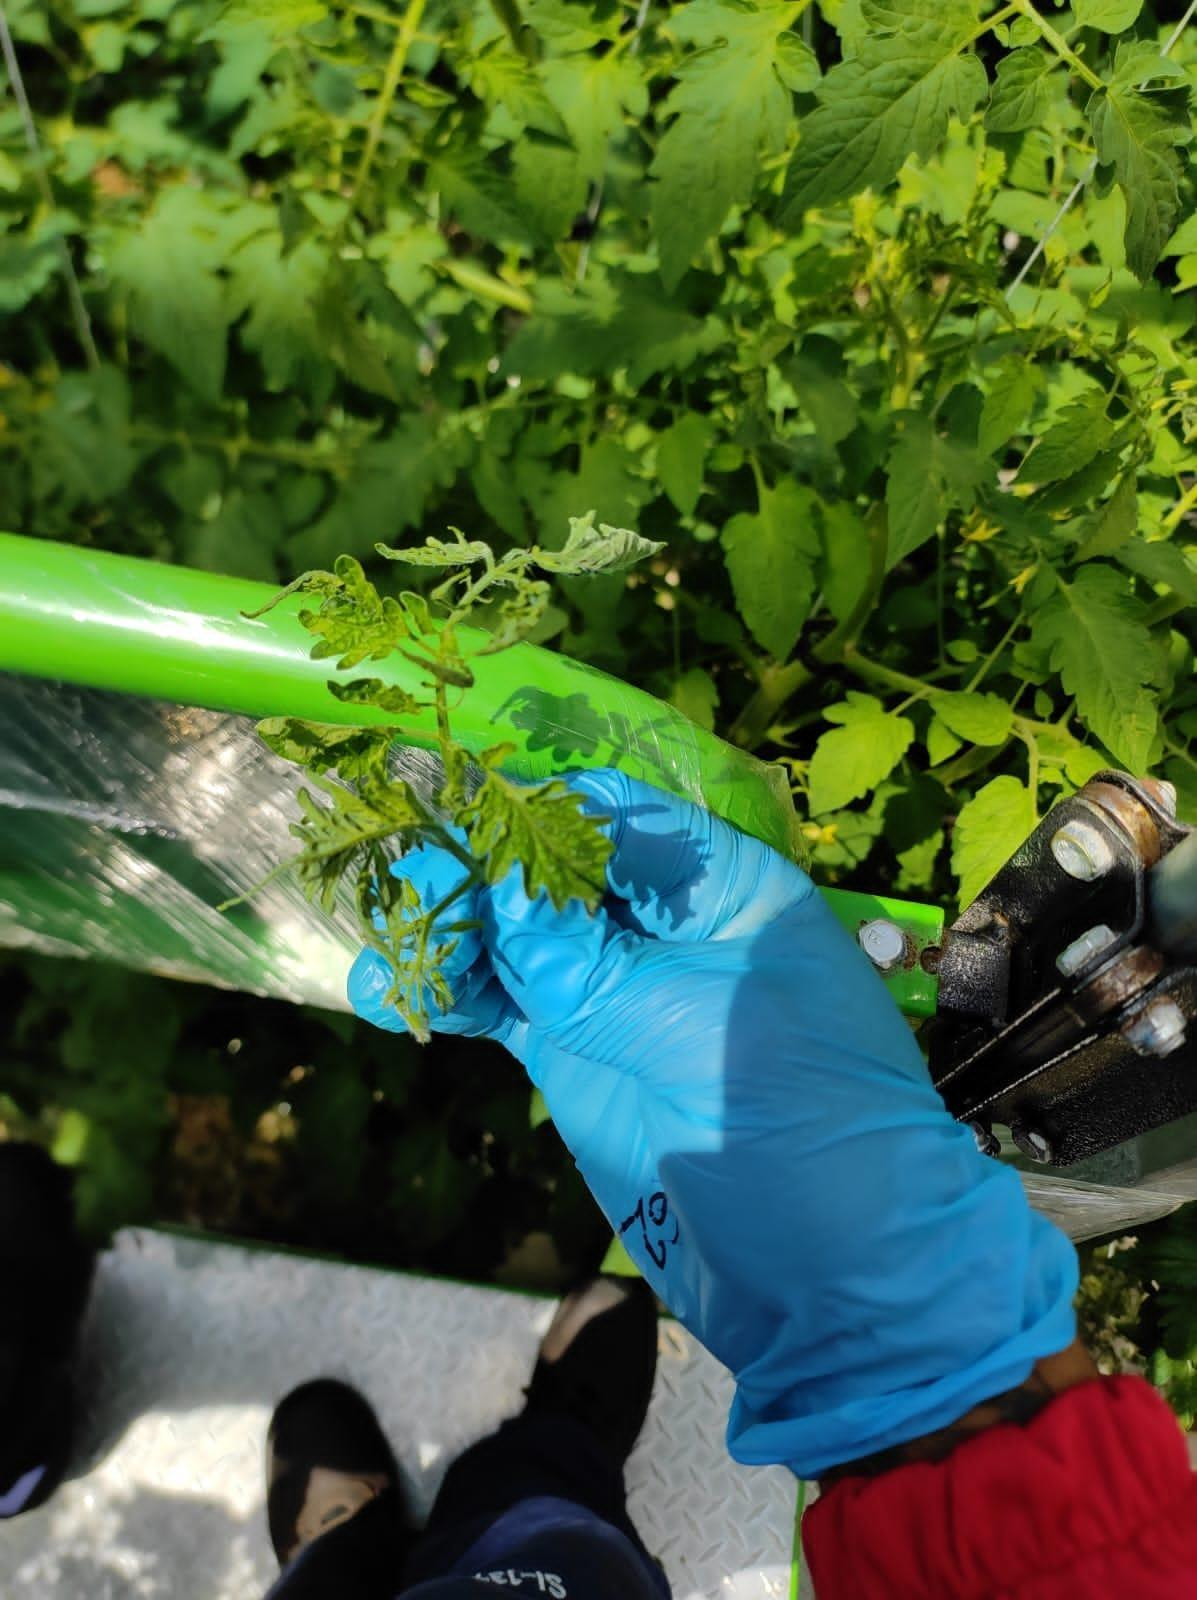Rugose leaf: (459, 769, 612, 906), (250, 557, 406, 669)
